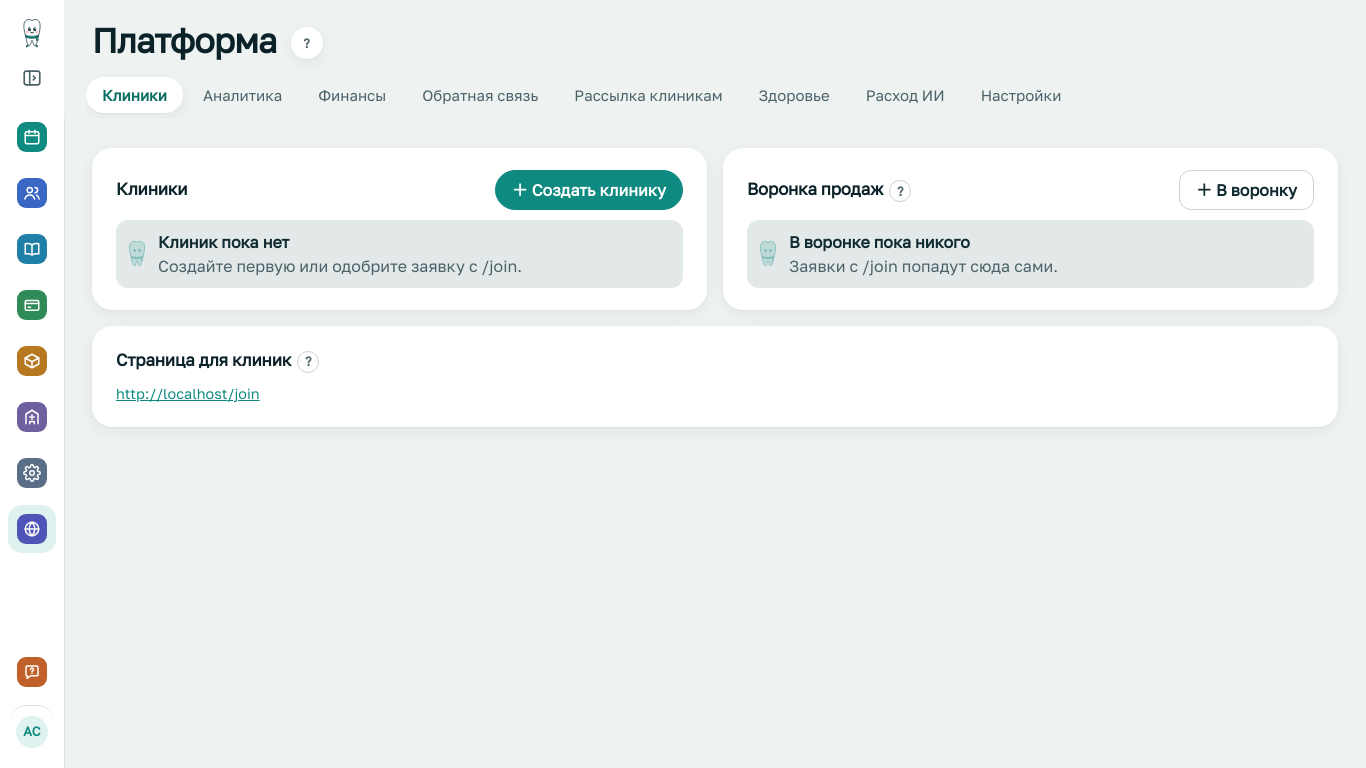
Scenario: владелец: «Здоровье» — проблемы сверху, база, бэкап, Telegram, ошибки и задачи
Check: the navigation bar named "Разделы" is shown, box [8,113,56,553]
Click the link "Здоровье": (794, 95) [759,86,830,104]
(page scrolled)
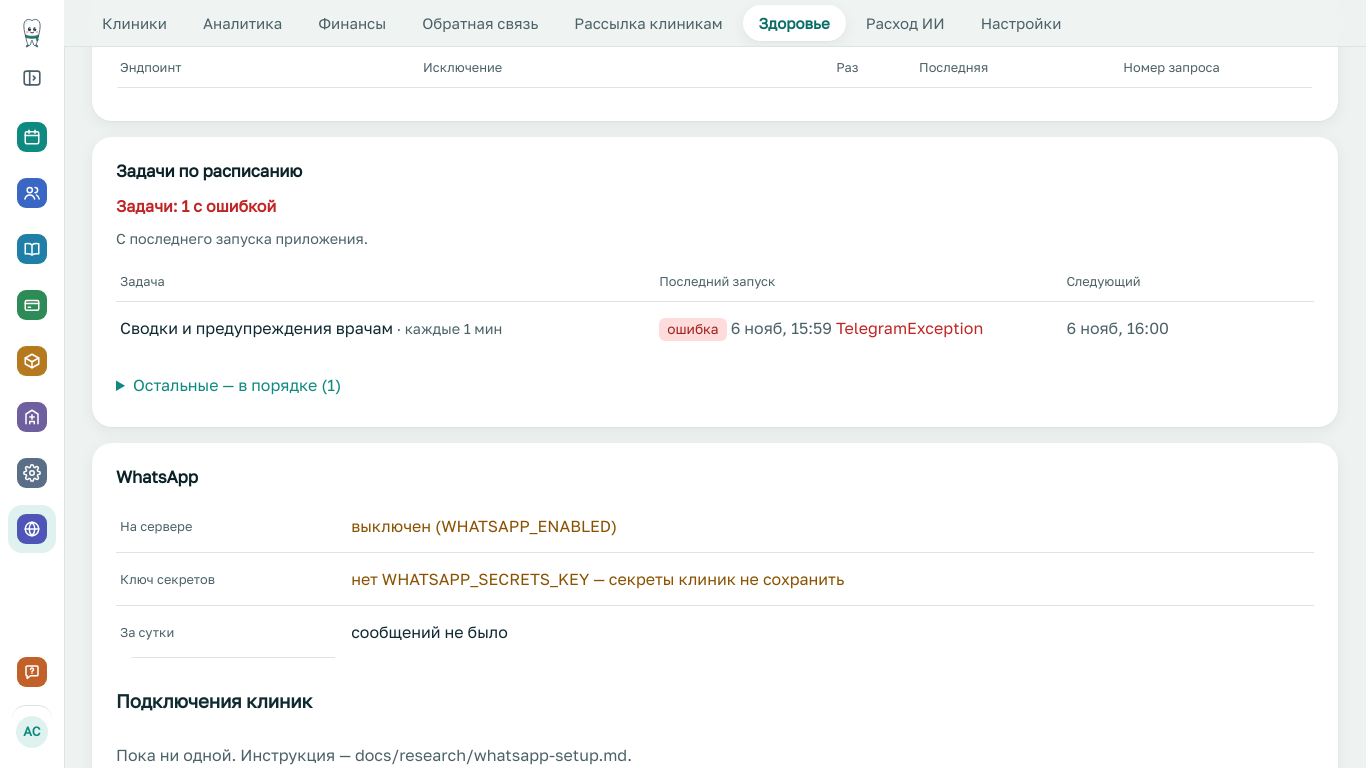
Check: the row "patients" shows "GET /api/patients/{id}", box [116,46,1314,99]
Check: the row "patients" shows "3f9a2c41b7d0", box [1123,63,1239,82]
Check: the text "Задачи: 1 с ошибкой" is shown, box [116,196,276,216]
